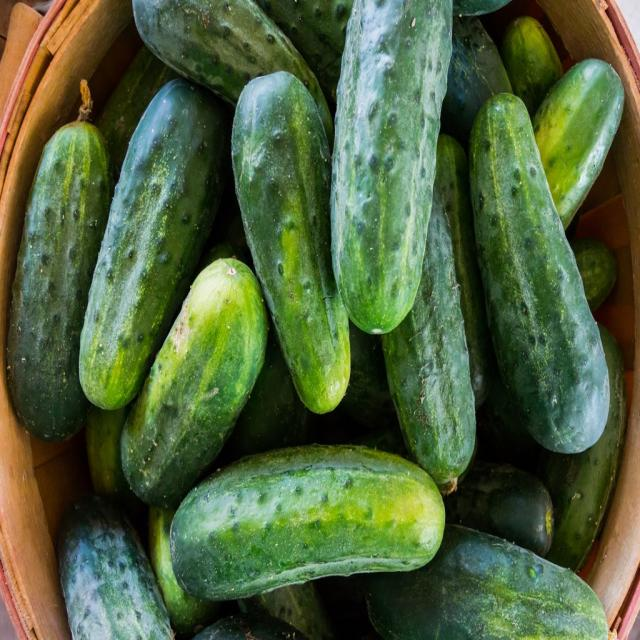Cucumber: (164, 420, 460, 624), (72, 59, 232, 435), (473, 80, 618, 471), (313, 0, 455, 360), (232, 43, 344, 433), (119, 224, 271, 510), (0, 75, 116, 442), (379, 113, 481, 510), (358, 542, 618, 640)
